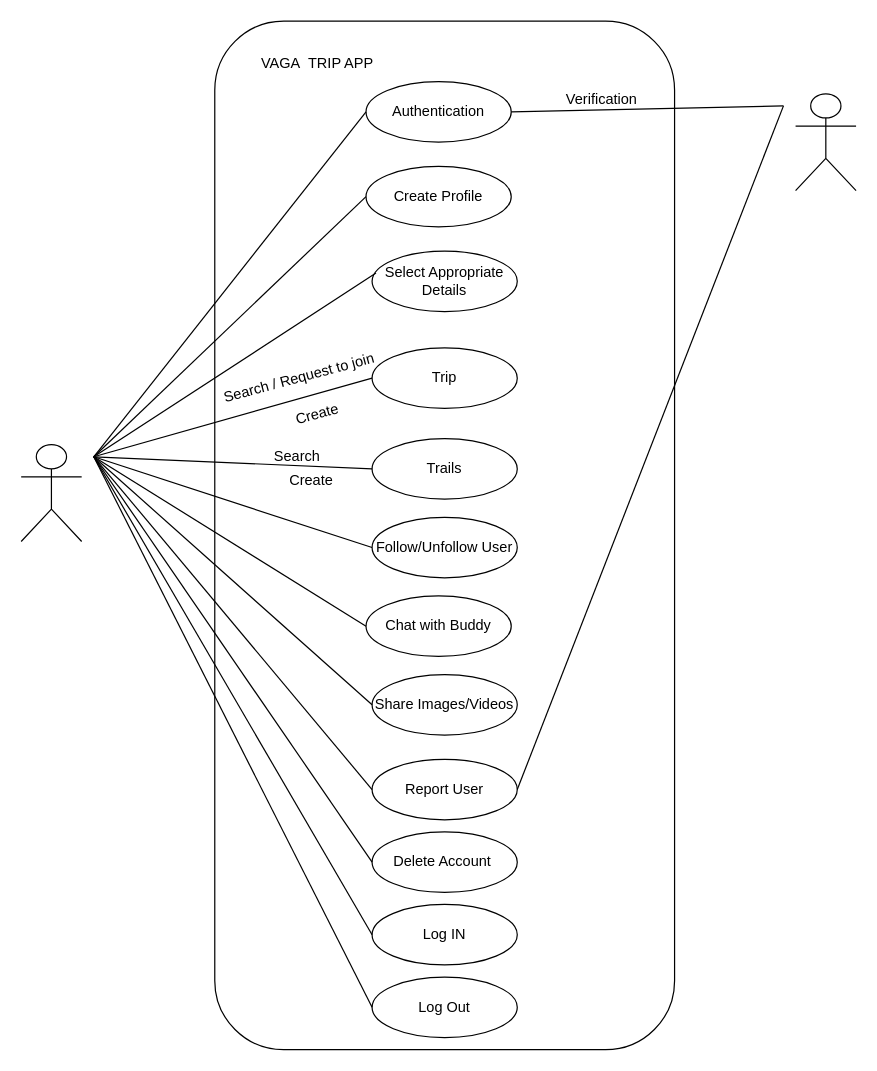
Some shapes in this 877 by 1071 pixel diagram are drawn without their labels. The shapes that lost their labels are listed below. From the top down, each one's centre as x and y in pixels, then its label:
At (x=825, y=142): "Admin".
At (x=51, y=492): "User".
